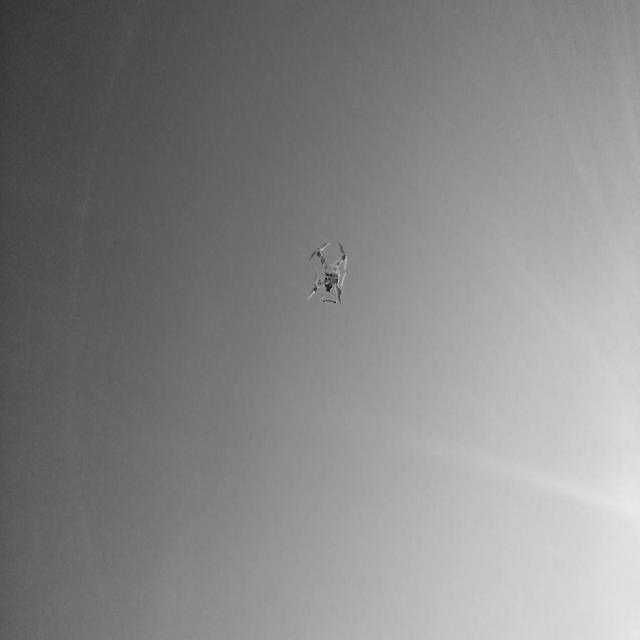drone: (300, 238, 352, 316)
